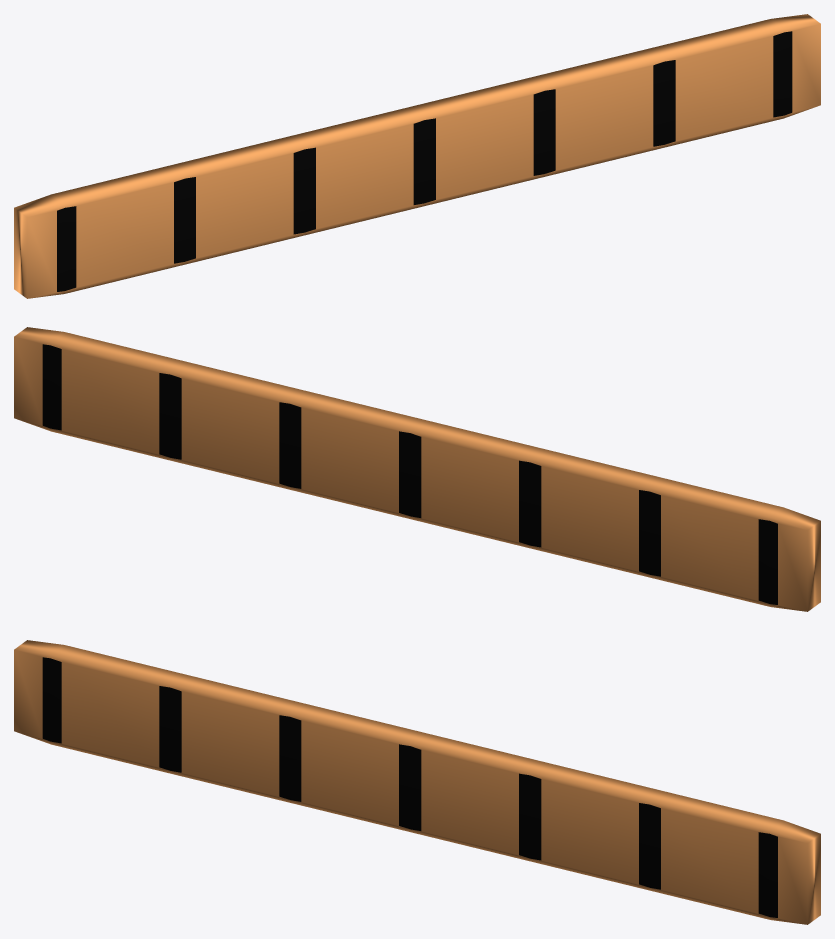
File: Lineal.glb
3 views of the same model, one above another, from view 1: azimuth 30°, elevation 25°; view 2: azimuth 150°, elevation 25°; view 3: azimuth 330°, elevation 25° (orthographic).
Parts seen in each view (by area): view 1: Lineal; view 2: Lineal; view 3: Lineal.
Part boxes in pixels (left/top/right/bottom): Lineal: left=14, top=14, right=820, bottom=298; Lineal: left=14, top=327, right=820, bottom=611; Lineal: left=14, top=640, right=820, bottom=924.
Bounding box in the file's own units: 0.7382 × 0.0799 × 0.0235.
